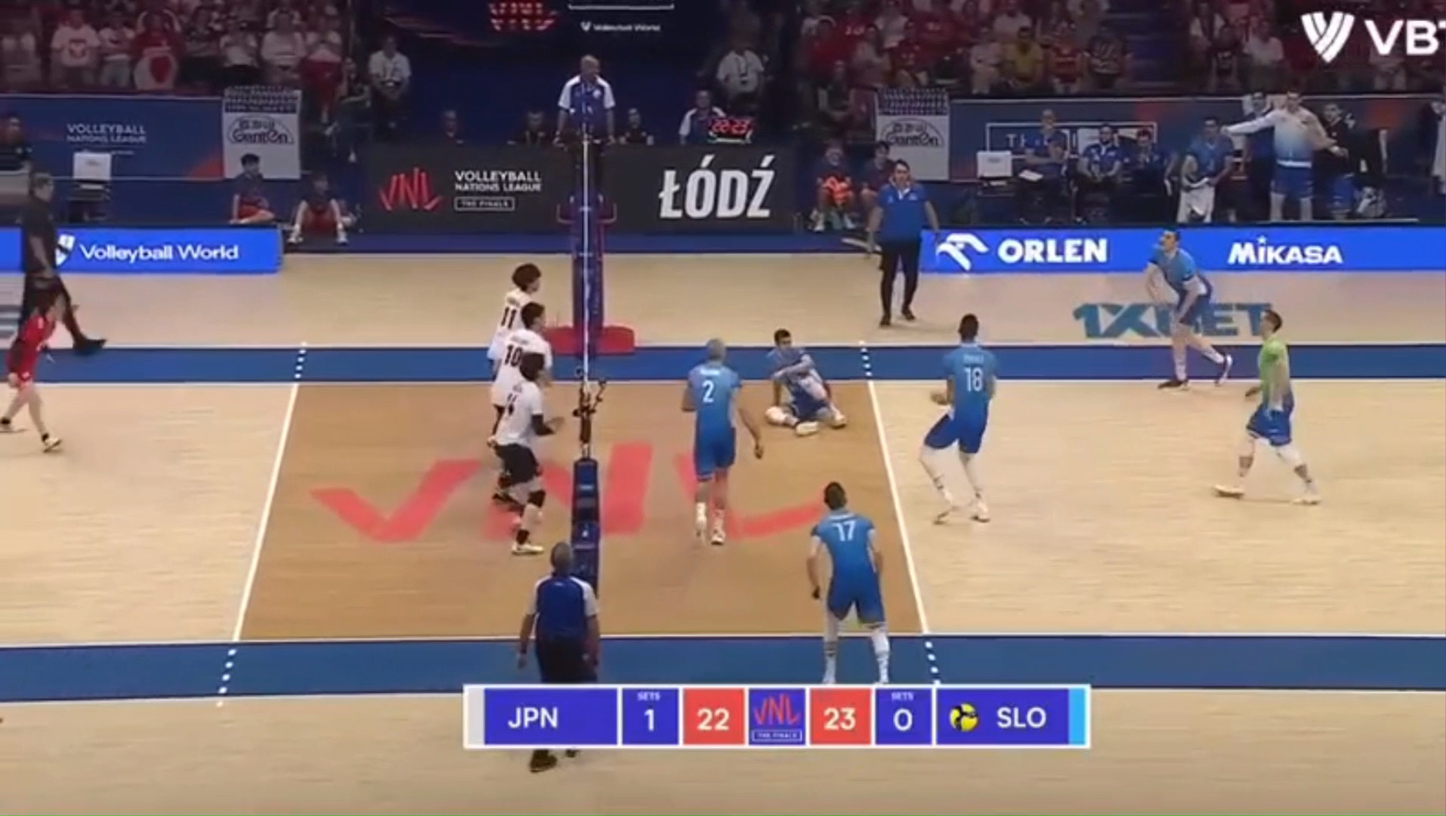player: (1213, 310, 1319, 504), (806, 481, 891, 683), (682, 338, 762, 545), (921, 314, 996, 523), (1145, 230, 1232, 389), (765, 329, 846, 435)
player 1: (493, 352, 564, 554), (0, 298, 63, 450), (492, 302, 552, 408), (489, 263, 541, 363)
referee: (19, 173, 106, 354), (866, 159, 938, 326), (518, 542, 600, 682), (555, 56, 616, 227)
